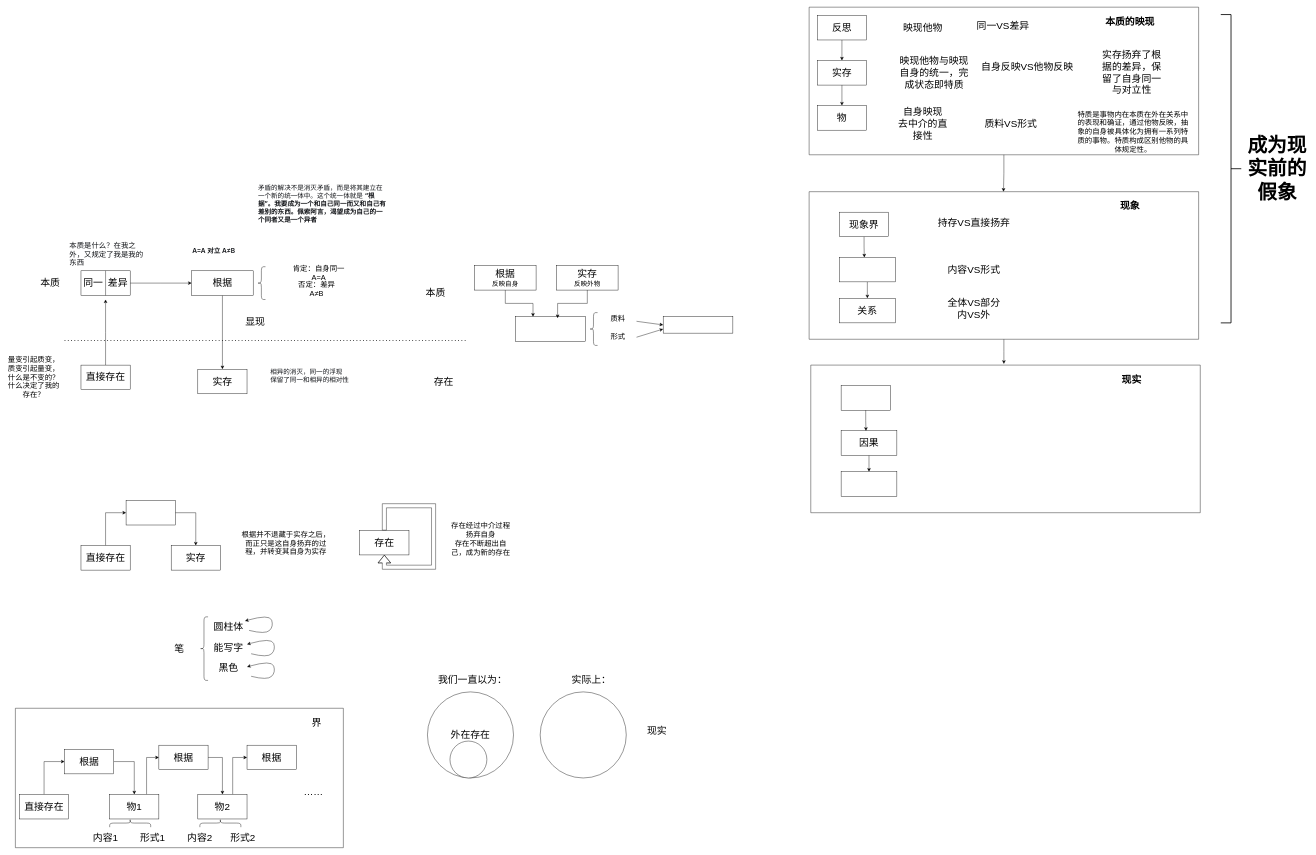
Some shapes in this 1316 by 855 pixel diagram are drawn without their labels. The shapes that lost their labels are listed below. From the top down, each one's box as (x1, y1, x2, y2) in pixels, then its label:
(839, 257, 895, 282): 内容与形式
(515, 316, 585, 341): 物 既反映外物又反映自身
(663, 316, 733, 333): 特质：被形式规定的质料 反映他物
(841, 385, 890, 410): 实体
(841, 471, 897, 496): 作用
(126, 500, 175, 525): 中介过程
(540, 691, 626, 778): 我是存在 亦是本质
(450, 741, 487, 778): 内在本质（不可知）
